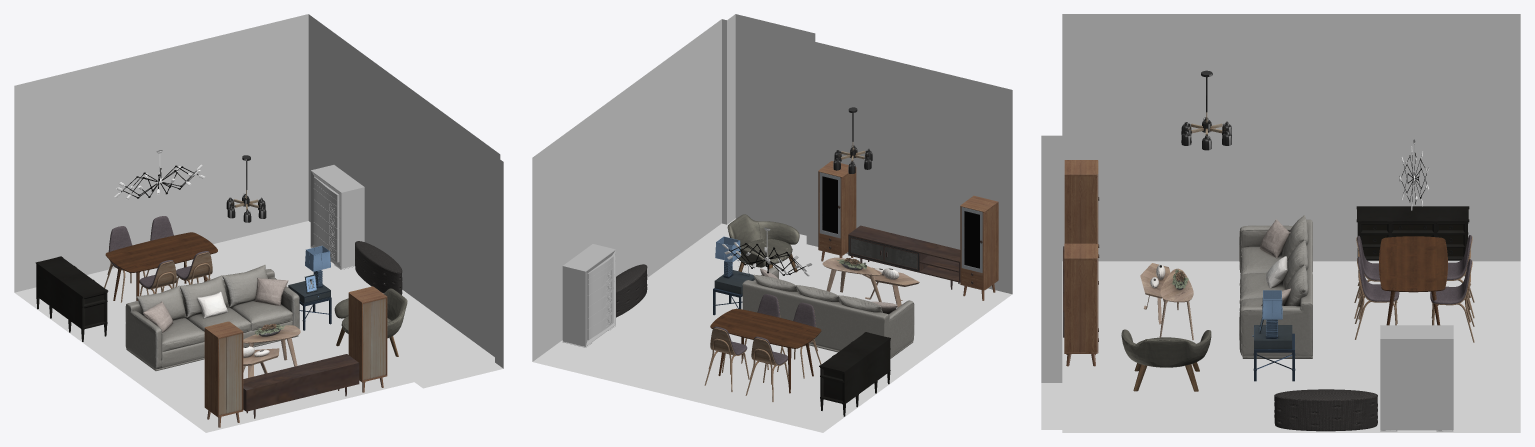
The model's file is demo_scene.glb.
The picture shows the model from 3 angles, left to right: view 1: azimuth 30°, elevation 25°; view 2: azimuth 150°, elevation 25°; view 3: azimuth 270°, elevation 25°; orthographic projection. The views are drawn at different scales.
Visible parts, largest first — view 1: world, solid_001_wire, raw_model.obj_1, solid_001_wire_1, solid_001_wire_10, solid_001_wire_9, solid_001_wire_8, raw_model.obj, raw_model.obj_2, glass_001_wire, solid_001_wire_2, solid_001_wire_3 (+6 smaller); view 2: world, solid_001_wire, raw_model.obj_1, solid_001_wire_1, solid_001_wire_10, solid_001_wire_9, solid_001_wire_8, raw_model.obj, solid_001_wire_3, solid_001_wire_2, glass_001_wire, raw_model.obj_2 (+6 smaller); view 3: world, solid_001_wire, raw_model.obj_1, solid_001_wire_10, raw_model.obj_2, raw_model.obj, solid_001_wire_8, solid_001_wire_9, solid_001_wire_3, glass_001_wire, solid_001_wire_2, solid_001_wire_11 (+5 smaller).
Boxes of the visible parts, left/top/right/bottom form: world: left=14, top=14, right=503, bottom=432; solid_001_wire: left=125, top=265, right=299, bottom=370; raw_model.obj_1: left=310, top=165, right=364, bottom=269; solid_001_wire_1: left=243, top=354, right=359, bottom=418; solid_001_wire_10: left=35, top=256, right=108, bottom=341; solid_001_wire_9: left=204, top=321, right=243, bottom=427; solid_001_wire_8: left=348, top=286, right=387, bottom=392; raw_model.obj: left=105, top=232, right=217, bottom=300; raw_model.obj_2: left=355, top=241, right=402, bottom=294; glass_001_wire: left=288, top=245, right=331, bottom=330; solid_001_wire_2: left=243, top=324, right=300, bottom=377; solid_001_wire_3: left=334, top=288, right=407, bottom=356; world: left=532, top=14, right=1012, bottom=432; solid_001_wire: left=742, top=267, right=914, bottom=358; raw_model.obj_1: left=562, top=244, right=615, bottom=347; solid_001_wire_1: left=848, top=225, right=960, bottom=289; solid_001_wire_10: left=819, top=332, right=890, bottom=416; solid_001_wire_9: left=960, top=195, right=998, bottom=300; solid_001_wire_8: left=818, top=161, right=856, bottom=261; raw_model.obj: left=710, top=308, right=821, bottom=393; solid_001_wire_3: left=727, top=214, right=799, bottom=272; solid_001_wire_2: left=822, top=257, right=919, bottom=307; glass_001_wire: left=713, top=236, right=754, bottom=315; raw_model.obj_2: left=616, top=264, right=647, bottom=317; world: left=1041, top=14, right=1520, bottom=432; solid_001_wire: left=1239, top=215, right=1312, bottom=358; raw_model.obj_1: left=1380, top=325, right=1453, bottom=431; solid_001_wire_10: left=1356, top=206, right=1469, bottom=271; raw_model.obj_2: left=1274, top=389, right=1377, bottom=431; raw_model.obj: left=1379, top=236, right=1447, bottom=325; solid_001_wire_8: left=1064, top=243, right=1098, bottom=366; solid_001_wire_9: left=1064, top=160, right=1099, bottom=257; solid_001_wire_3: left=1121, top=329, right=1211, bottom=391; glass_001_wire: left=1252, top=290, right=1295, bottom=381; solid_001_wire_2: left=1140, top=263, right=1193, bottom=340; solid_001_wire_11: left=1181, top=70, right=1231, bottom=150.
Bounding box in the file's own units: 4.69 × 3.15 × 5.53.
Materials: 14 (13 with a texture image).
